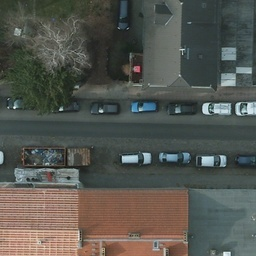car: (116, 0, 133, 33), (7, 95, 40, 112), (117, 151, 152, 167), (202, 101, 234, 117), (168, 100, 198, 116), (194, 153, 226, 168), (48, 99, 81, 113), (89, 101, 121, 115), (158, 151, 189, 165), (131, 101, 162, 114)
van: (0, 152, 3, 166)
